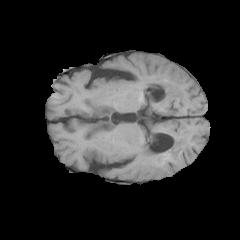glioma: (140, 65, 192, 163)
